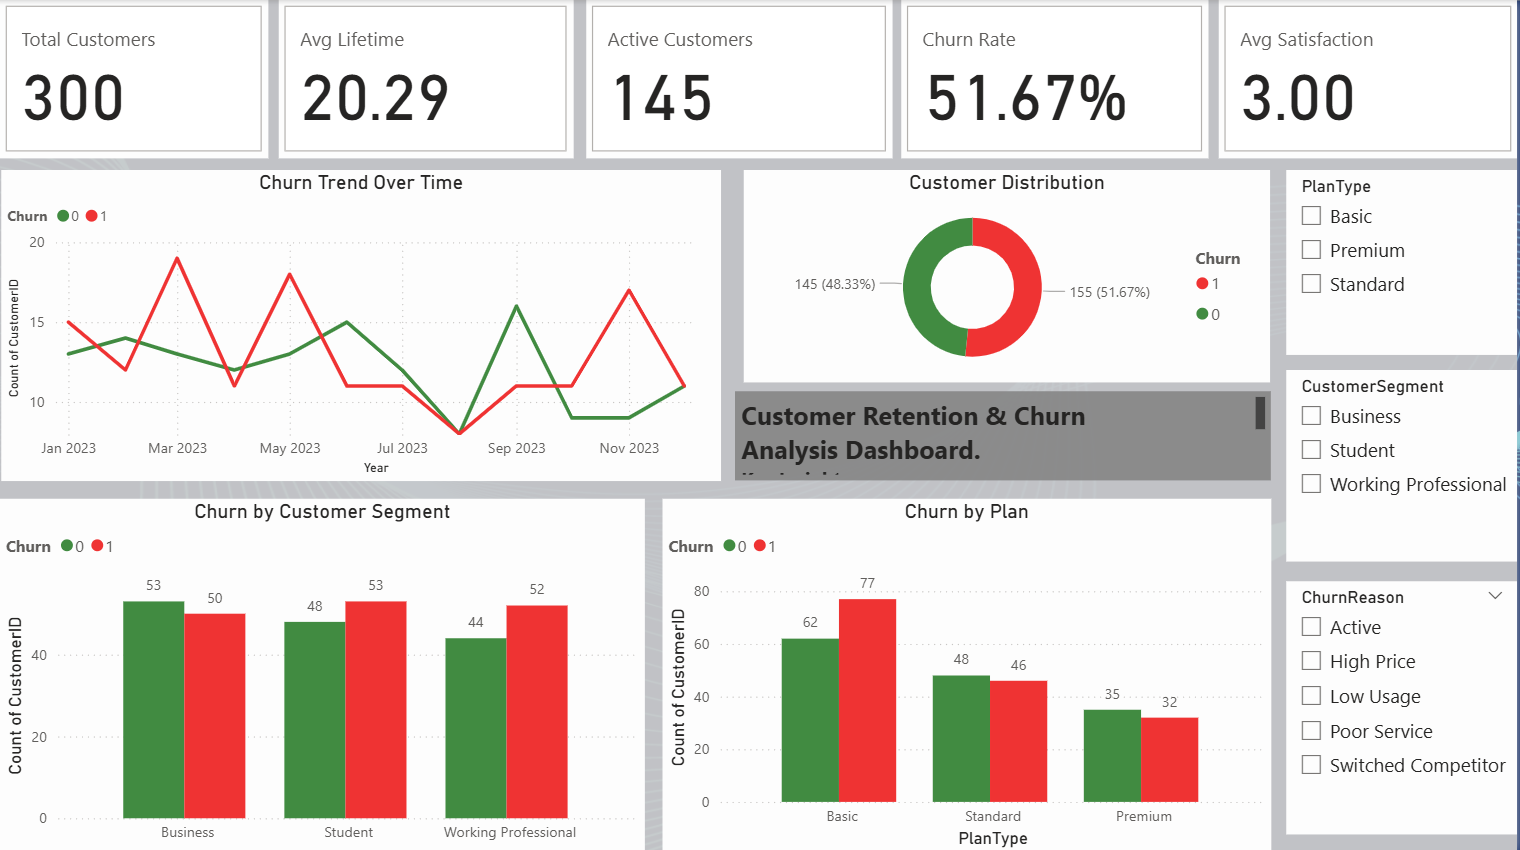

The dashboard page shown, as its layout file describes it:
{"tool":"powerbi","page":{"name":"Executive Overview","canvas":[1280,720],"ordinal":1},"visuals":[{"type":"cardVisual","fields":{"Data":["Table.Total Customers"]},"box":[0,0,234.9,133.7],"z":0},{"type":"cardVisual","fields":{"Data":["Table.Avg Lifetime"]},"box":[234.9,0,259.3,133.7],"z":1000},{"type":"cardVisual","fields":{"Data":["Table.Churn Rate"]},"box":[760.5,0,267.4,133.7],"z":2000},{"type":"cardVisual","fields":{"Data":["Table.Active Customers"]},"box":[494.2,0,266.3,133.7],"z":3000},{"type":"cardVisual","fields":{"Data":["Table.Avg Satisfaction"]},"box":[1027.9,0,252.3,133.7],"z":4000},{"type":"lineChart","title":"Churn Trend Over Time","fields":{"Series":["Table.Churn"],"Category":["Table.StartDate.Variation.Date Hierarchy.Year","Table.StartDate.Variation.Date Hierarchy.Month"],"Y":["CountNonNull(Table.CustomerID)"]},"box":[1.1,143.4,607.4,262.6],"z":5000},{"type":"donutChart","title":"Customer Distribution","fields":{"Category":["Table.Churn"],"Y":["CountNonNull(Table.CustomerID)"]},"box":[660.1,143.4,368,178.2],"z":6000},{"type":"clusteredColumnChart","title":"Churn by Plan","fields":{"Category":["Table.PlanType"],"Series":["Table.Churn"],"Y":["CountNonNull(Table.CustomerID)"]},"box":[558.9,420.7,513.5,299.5],"z":7000},{"type":"clusteredColumnChart","title":"Churn by Customer Segment","fields":{"Category":["Table.CustomerSegment"],"Y":["CountNonNull(Table.CustomerID)"],"Series":["Table.Churn"]},"box":[0,420.7,544.1,299.5],"z":8000},{"type":"slicer","fields":{"Values":["Table.PlanType"]},"box":[1085.1,143.4,195.1,136],"z":9000},{"type":"slicer","fields":{"Values":["Table.CustomerSegment"]},"box":[1085.1,309,195.1,147.6],"z":10000},{"type":"slicer","fields":{"Values":["Table.ChurnReason"]},"box":[1085.1,488.2,195.1,214.1],"z":11000},{"type":"textbox","box":[619.8,330.2,452.3,75.6],"z":12000}]}

Visuals, with their boxes in screenshot pixels (x1, y1, x2, y2), scaled from the page's 1280x720 canvas onto the 1520x850 screenshot:
cardVisual - Table.Total Customers: (x1=0, y1=0, x2=279, y2=158)
cardVisual - Table.Avg Lifetime: (x1=279, y1=0, x2=587, y2=158)
cardVisual - Table.Churn Rate: (x1=903, y1=0, x2=1221, y2=158)
cardVisual - Table.Active Customers: (x1=587, y1=0, x2=903, y2=158)
cardVisual - Table.Avg Satisfaction: (x1=1221, y1=0, x2=1519, y2=158)
"Churn Trend Over Time" lineChart: (x1=1, y1=169, x2=723, y2=479)
"Customer Distribution" donutChart: (x1=784, y1=169, x2=1221, y2=380)
"Churn by Plan" clusteredColumnChart: (x1=664, y1=497, x2=1273, y2=849)
"Churn by Customer Segment" clusteredColumnChart: (x1=0, y1=497, x2=646, y2=849)
slicer - Table.PlanType: (x1=1289, y1=169, x2=1519, y2=330)
slicer - Table.CustomerSegment: (x1=1289, y1=365, x2=1519, y2=539)
slicer - Table.ChurnReason: (x1=1289, y1=576, x2=1519, y2=829)
textbox: (x1=736, y1=390, x2=1273, y2=479)
